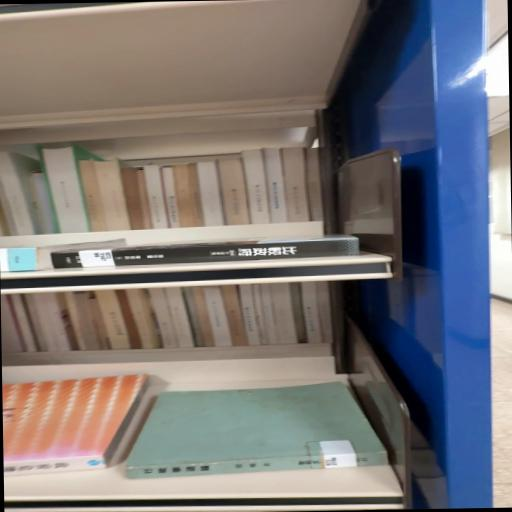flat: (125, 382, 389, 479), (2, 374, 150, 477), (51, 235, 359, 269)
